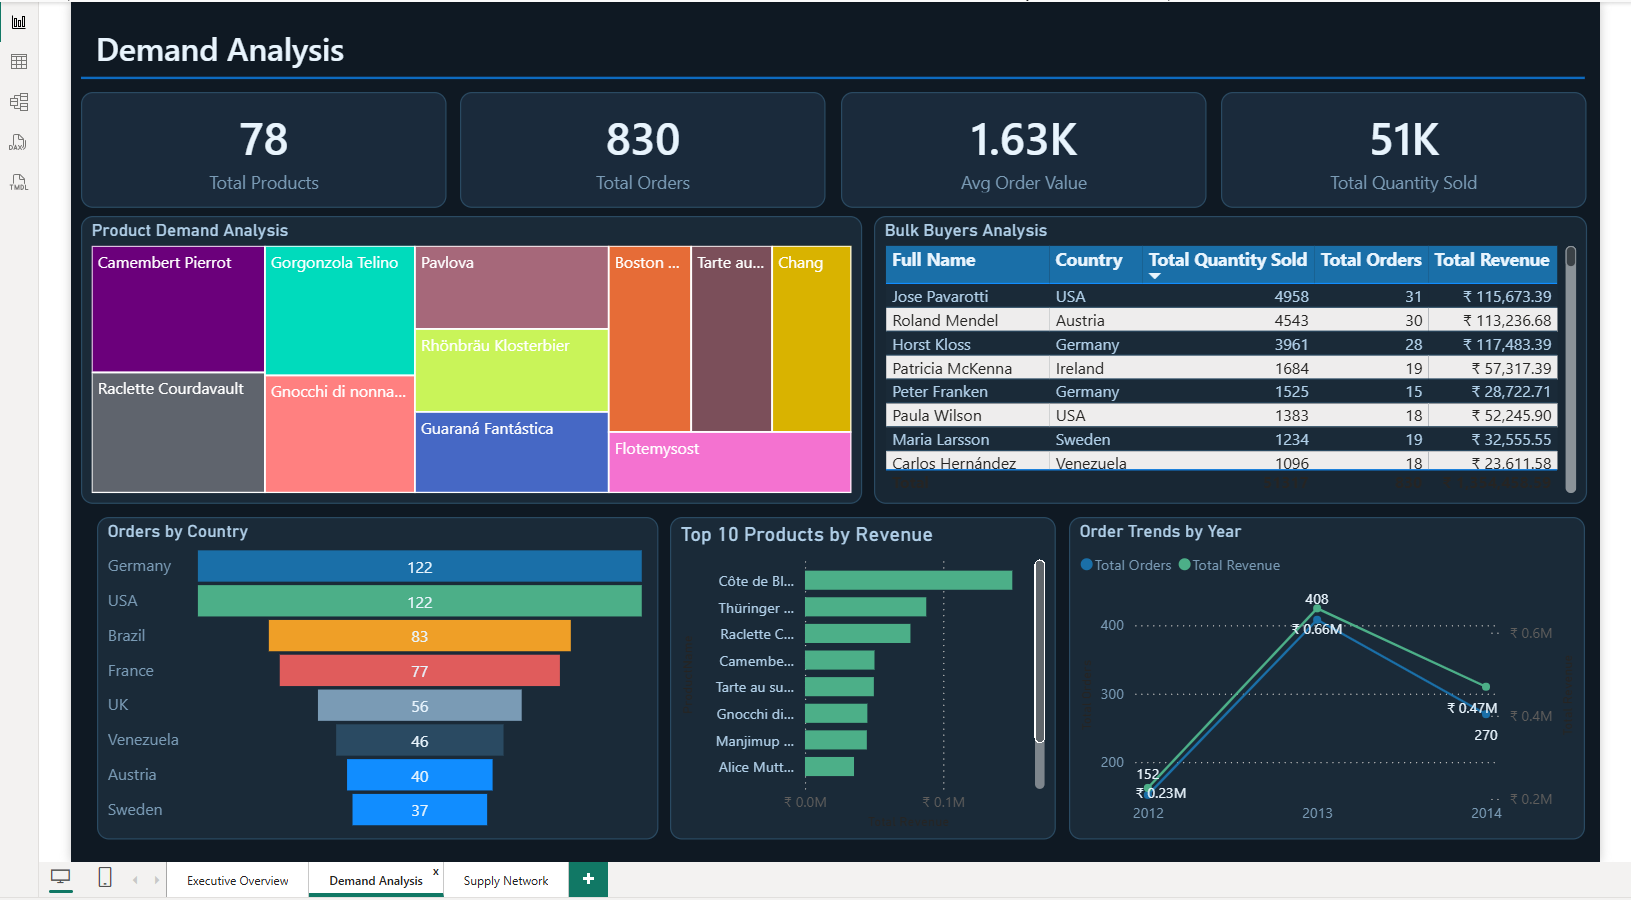

Layout of this report page (visuals, bound fields, positions):
{"tool":"powerbi","page":{"name":"Demand Analysis","canvas":[1280,720],"ordinal":1},"visuals":[{"type":"card","fields":{"Values":["product.Total Products"]},"box":[8.6,75,306.2,96.6],"z":0},{"type":"card","fields":{"Values":["order_item.Total Orders"]},"box":[326,75,306.2,96.6],"z":1000},{"type":"card","fields":{"Values":["order.Avg Order Value"]},"box":[644.3,75,306.2,96.6],"z":2000},{"type":"card","fields":{"Values":["order_item.Total Quantity Sold"]},"box":[962.6,75,306.2,96.6],"z":3000},{"type":"lineChart","title":"Order Trends by Year","fields":{"Y":["order_item.Total Orders"],"Category":["order.OrderDate.Variation.Date Hierarchy.Year"],"Y2":["order_item.Total Revenue"]},"box":[835.8,431.3,432.1,270],"z":4000},{"type":"funnel","title":"Orders by Country","fields":{"Category":["customer.Country"],"Y":["order_item.Total Orders"]},"box":[21.6,431.3,470.1,270],"z":5000},{"type":"treemap","title":" Product Demand Analysis","fields":{"Group":["product.ProductName"],"Values":["order_item.Total Quantity Sold"]},"box":[8.6,179.4,653.8,240.6],"z":6000},{"type":"clusteredBarChart","title":"Top 10 Products by Revenue","fields":{"Y":["order_item.Total Revenue"],"Category":["product.ProductName"]},"box":[501.1,431.3,322.6,270],"z":7000},{"type":"textbox","box":[15.5,14.7,429.5,50],"z":9000},{"type":"shape","box":[8.6,23.3,1259.3,80.2],"z":10000},{"type":"tableEx","title":"Bulk Buyers Analysis","fields":{"Values":["customer.Full Name","customer.Country","order_item.Total Quantity Sold","order_item.Total Orders","order_item.Total Revenue"]},"box":[671.9,179.4,596.9,240.6],"z":10001}]}

Visuals, with their boxes on the page's 1280x720 design canvas (x1, y1, x2, y2). These are canvas units, not pixel positions in the 1631x900 screenshot, which may show the page scaled, cropped or inside an application window:
card - product.Total Products: pyautogui.locateOnScreen(9, 75, 315, 172)
card - order_item.Total Orders: pyautogui.locateOnScreen(326, 75, 632, 172)
card - order.Avg Order Value: pyautogui.locateOnScreen(644, 75, 950, 172)
card - order_item.Total Quantity Sold: pyautogui.locateOnScreen(963, 75, 1269, 172)
"Order Trends by Year" lineChart: pyautogui.locateOnScreen(836, 431, 1268, 701)
"Orders by Country" funnel: pyautogui.locateOnScreen(22, 431, 492, 701)
" Product Demand Analysis" treemap: pyautogui.locateOnScreen(9, 179, 662, 420)
"Top 10 Products by Revenue" clusteredBarChart: pyautogui.locateOnScreen(501, 431, 824, 701)
textbox: pyautogui.locateOnScreen(16, 15, 445, 65)
shape: pyautogui.locateOnScreen(9, 23, 1268, 104)
"Bulk Buyers Analysis" tableEx: pyautogui.locateOnScreen(672, 179, 1269, 420)
